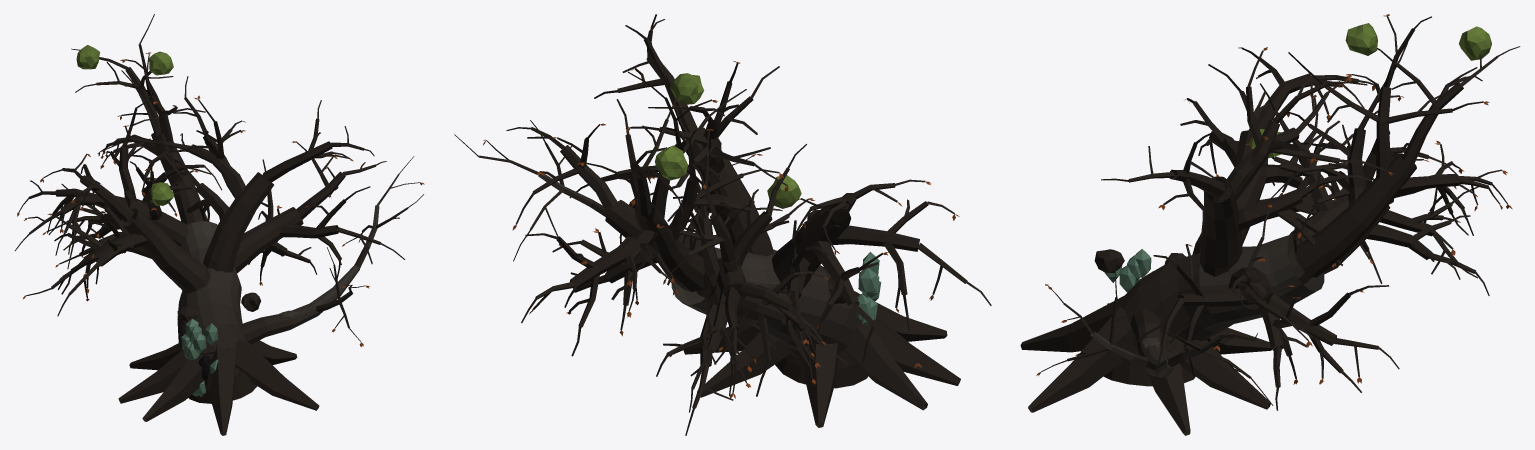
File: tree_waiting_oak.glb
3 renders of one model, left to right at view 1: azimuth 30°, elevation 25°; view 2: azimuth 150°, elevation 25°; view 3: azimuth 270°, elevation 25°, orthographic. The views are drawn at different scales.
Parts seen in each view (by area): view 1: tree_waiting_oak; view 2: tree_waiting_oak; view 3: tree_waiting_oak.
Part boxes in pixels (x1,y1,x2,y2): tree_waiting_oak: [15, 14, 424, 435]; tree_waiting_oak: [454, 14, 991, 435]; tree_waiting_oak: [1020, 14, 1520, 435].
Bounding box in the file's own units: 14.43 × 10.56 × 12.33.
